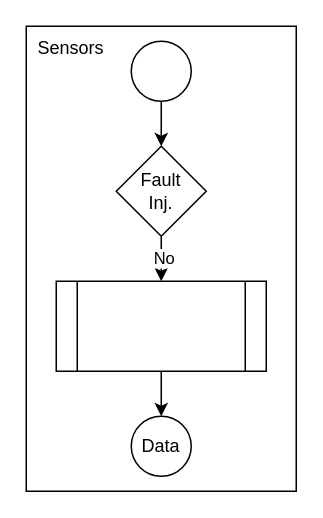
The diagram is 323 pixels wide and 518 high, and some of its shapes have lost their labels. The box of each missing label's shape, as (x1, y1, x2, y2) in pixels:
Generate Sample: (55, 280, 266, 371)
Start: (130, 40, 191, 101)
